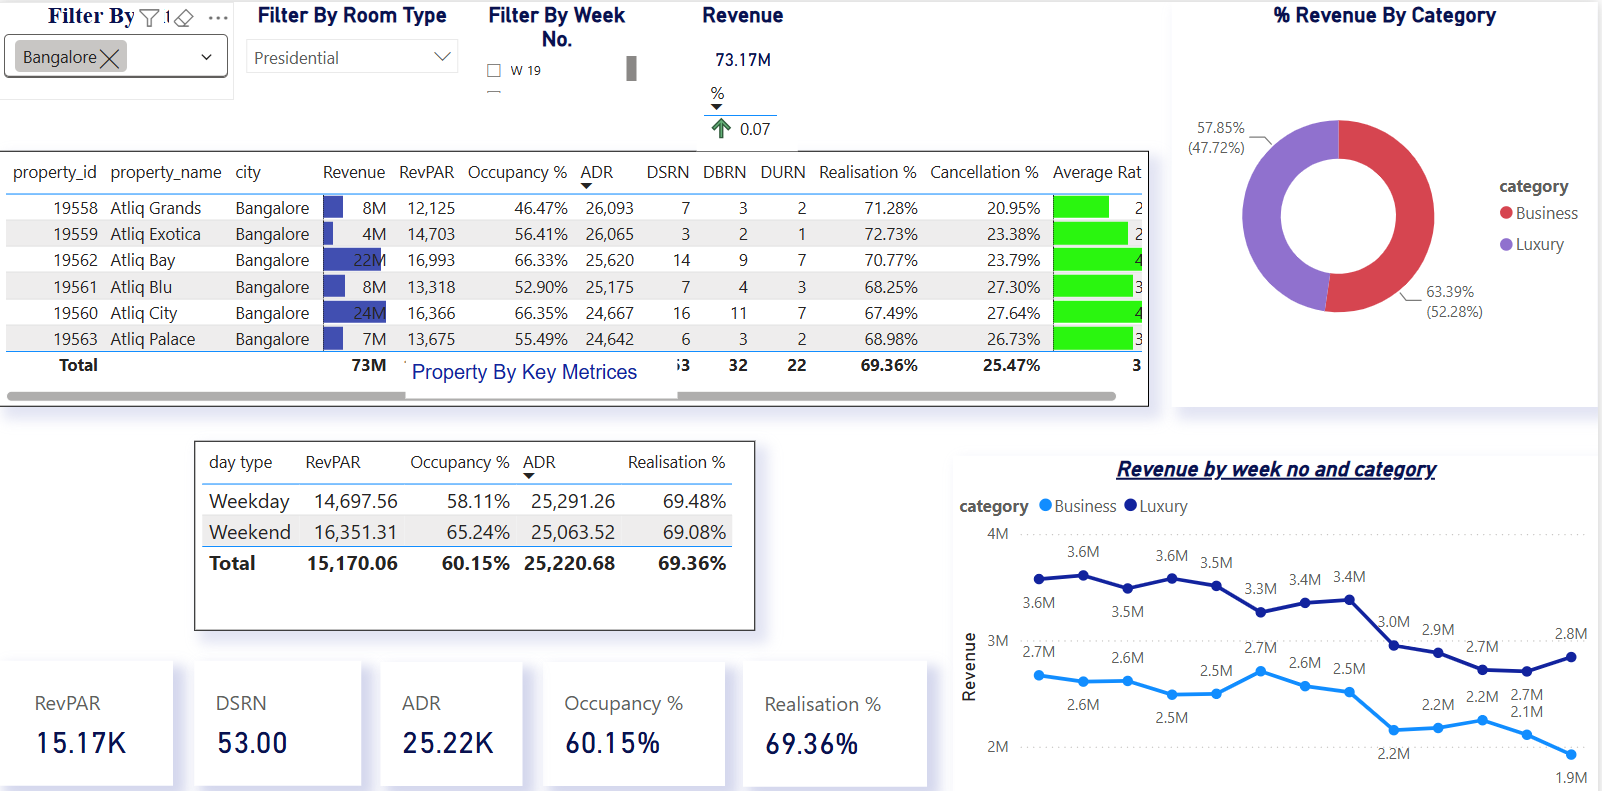

The dashboard page shown, as its layout file describes it:
{"tool":"powerbi","page":{"name":"Page 1","canvas":[1280,720],"ordinal":0},"visuals":[{"type":"tableEx","fields":{"Values":["dim_hotels.property_id","dim_hotels.property_name","dim_hotels.city","key_measures.Revenue","key_measures.RevPAR","key_measures.Occupancy %","key_measures.ADR","key_measures.DSRN","key_measures.DBRN","key_measures.DURN","key_measures.Realisation %","key_measures.Cancellation %"]},"box":[0,118.9,921.1,205.6],"z":0},{"type":"listSlicer","title":"Filter By City","fields":{"Values":["dim_hotels.city"]},"box":[0,0,188.9,77.8],"z":1000},{"type":"slicer","title":"Filter By Room Type","fields":{"Values":["dim_rooms.room_class"]},"box":[188.9,0,189,78],"z":2000},{"type":"slicer","title":"Filter By Week No.","fields":{"Values":["dim_date.week no"]},"box":[377.8,0,137.8,77.8],"z":4000},{"type":"cardVisual","title":"Revenue","fields":{"Data":["key_measures.Revenue"]},"box":[515.6,0,160,65.6],"z":5000},{"type":"tableEx","fields":{"Values":["key_measures.Revenue WoW change %"]},"box":[558.9,56.7,81.1,62.2],"z":6000},{"type":"lineChart","fields":{"Category":["dim_date.week no"],"Series":["dim_hotels.category"],"Y":["key_measures.Revenue"]},"box":[764.4,363.3,515.6,318.9],"z":7000},{"type":"donutChart","title":"% Revenue By Category","fields":{"Category":["dim_hotels.category"],"Y":["key_measures.Occupancy %"]},"box":[938.9,0,341.1,324.4],"z":8000},{"type":"cardVisual","fields":{"Data":["key_measures.RevPAR"]},"box":[0,526.7,140,100],"z":9000},{"type":"cardVisual","fields":{"Data":["key_measures.DSRN"]},"box":[156.7,526.7,134.4,100],"z":10000},{"type":"cardVisual","fields":{"Data":["key_measures.Occupancy %"]},"box":[435.6,527.8,146.7,98.9],"z":11000},{"type":"cardVisual","fields":{"Data":["key_measures.ADR"]},"box":[305.6,527.8,114.4,98.9],"z":12000},{"type":"cardVisual","fields":{"Data":["key_measures.Realisation %"]},"box":[595.6,526.7,147.8,101.1],"z":13000},{"type":"tableEx","fields":{"Values":["dim_date.day type","key_measures.RevPAR","key_measures.Occupancy %","key_measures.ADR","key_measures.Realisation %"]},"box":[156.7,351.1,448.9,152.2],"z":14000},{"type":"textbox","box":[325.6,282.2,218.9,34.4],"z":14002}]}

Visuals, with their boxes on the page's 1280x720 design canvas (x1, y1, x2, y2). These are canvas units, not pixel positions in the 1602x791 screenshot, which may show the page scaled, cropped or inside an application window:
tableEx - dim_hotels.property_id x dim_hotels.property_name: rect(0, 119, 921, 324)
"Filter By City" listSlicer: rect(0, 0, 189, 78)
"Filter By Room Type" slicer: rect(189, 0, 378, 78)
"Filter By Week No." slicer: rect(378, 0, 516, 78)
"Revenue" cardVisual: rect(516, 0, 676, 66)
tableEx - key_measures.Revenue WoW change %: rect(559, 57, 640, 119)
lineChart - dim_date.week no x dim_hotels.category: rect(764, 363, 1280, 682)
"% Revenue By Category" donutChart: rect(939, 0, 1280, 324)
cardVisual - key_measures.RevPAR: rect(0, 527, 140, 627)
cardVisual - key_measures.DSRN: rect(157, 527, 291, 627)
cardVisual - key_measures.Occupancy %: rect(436, 528, 582, 627)
cardVisual - key_measures.ADR: rect(306, 528, 420, 627)
cardVisual - key_measures.Realisation %: rect(596, 527, 743, 628)
tableEx - dim_date.day type x key_measures.RevPAR: rect(157, 351, 606, 503)
textbox: rect(326, 282, 544, 317)
